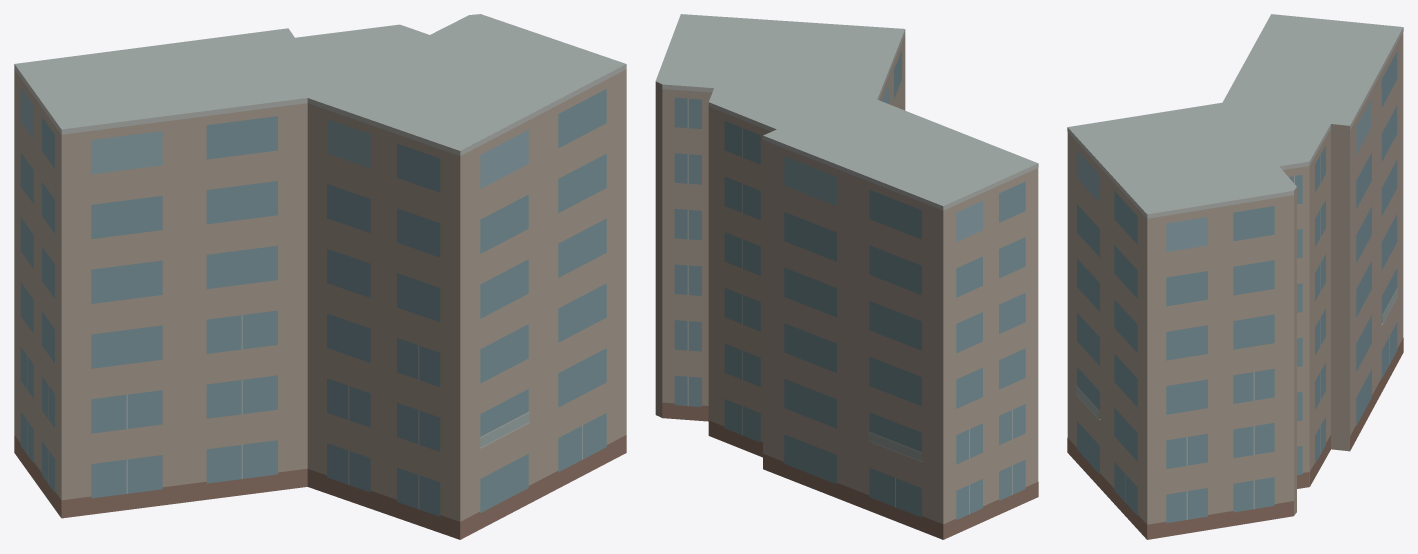
File: survey-upis-32933919.glb
The picture shows the model from 3 angles, left to right: view 1: azimuth 30°, elevation 25°; view 2: azimuth 150°, elevation 25°; view 3: azimuth 270°, elevation 25°; orthographic projection. The views are drawn at different scales.
Parts seen in each view (by area): view 1: survey-upis-32933919.tmp; view 2: survey-upis-32933919.tmp; view 3: survey-upis-32933919.tmp.
Boxes of the visible parts, x1,y1,x2,y2 form: survey-upis-32933919.tmp: [14, 14, 626, 539]; survey-upis-32933919.tmp: [655, 14, 1038, 539]; survey-upis-32933919.tmp: [1067, 14, 1403, 539].
Bounding box in the file's own units: 24.19 × 18.3 × 17.13.
